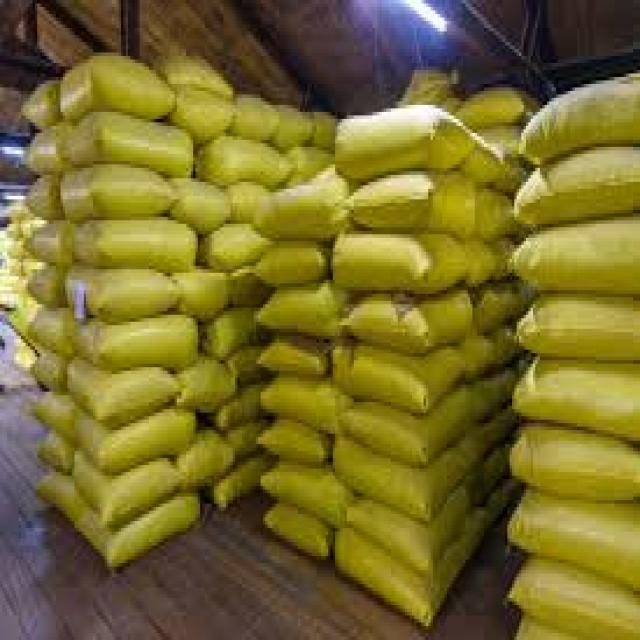cement_bag: (340, 511, 489, 625), (42, 473, 199, 568), (511, 138, 639, 230), (350, 483, 470, 573), (345, 388, 475, 468), (512, 216, 638, 295), (342, 445, 471, 518), (516, 565, 635, 640), (531, 82, 638, 163), (335, 345, 464, 411), (338, 108, 473, 168), (78, 410, 190, 480), (525, 508, 633, 580), (66, 370, 175, 440), (355, 286, 471, 350), (528, 368, 636, 436), (72, 461, 180, 528), (524, 440, 637, 500), (339, 236, 461, 291), (352, 177, 475, 231), (75, 316, 195, 370), (70, 221, 197, 270), (61, 270, 174, 321), (264, 465, 346, 535), (71, 120, 190, 168), (258, 380, 342, 446), (526, 311, 637, 356), (62, 72, 167, 117), (60, 177, 168, 216), (262, 192, 341, 240), (206, 301, 259, 365), (263, 298, 338, 338), (180, 440, 232, 495), (215, 145, 284, 185), (265, 340, 324, 383), (264, 248, 327, 285), (217, 458, 263, 508), (180, 371, 237, 411), (267, 425, 324, 465), (175, 182, 228, 221), (184, 270, 228, 316), (213, 226, 260, 268), (187, 93, 234, 132), (235, 95, 276, 137)
